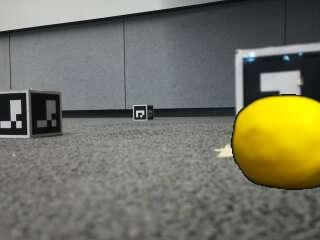lemon: (234, 94, 320, 189)
